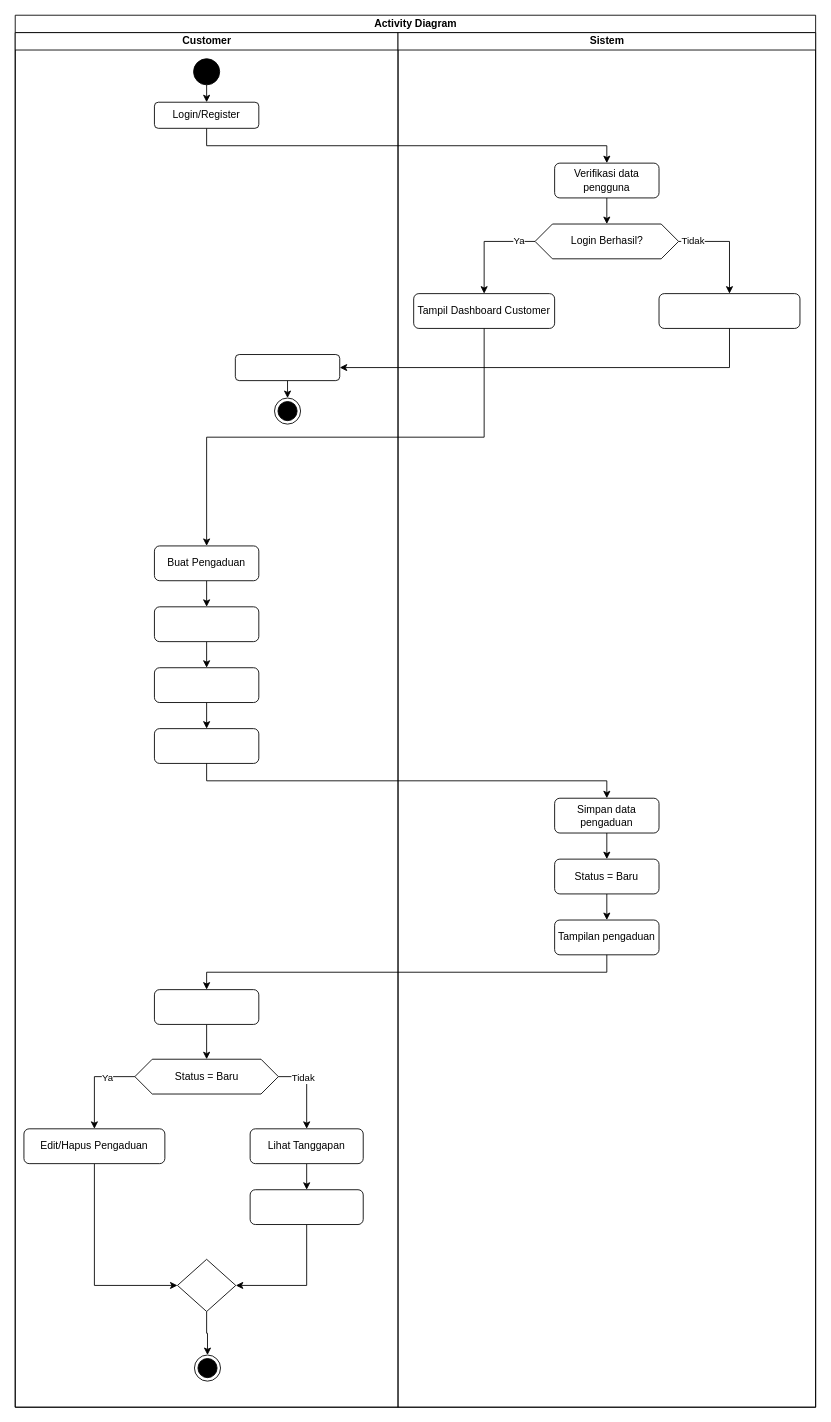
This 831x1422 diagram has some shape labels left out. Each missing label, with the centre of its shape:
"Isi data pengaduan" goes at (x=206, y=624).
"Kirim pengaduan" goes at (x=206, y=745).
"Lihat Status Akhir" goes at (x=306, y=1207).
"Lihat Status Pengaduan" goes at (x=206, y=1006).
"Login Kembali" goes at (x=287, y=367).
"Tampil Pesan Error" goes at (x=729, y=310).
"Uploud foto bukti" goes at (x=206, y=685).
